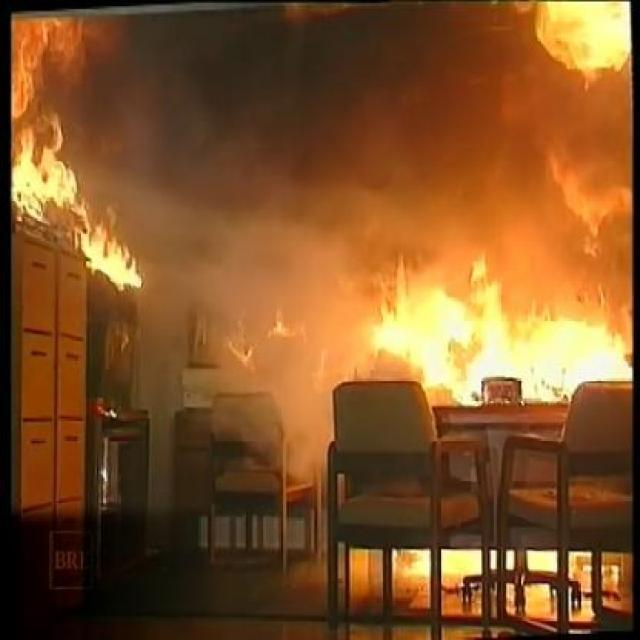fire: (382, 242, 627, 373), (15, 21, 97, 204)
smoke: (133, 53, 356, 333)
